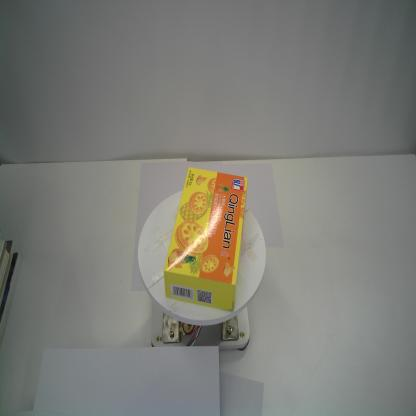Dessert: (162, 166, 249, 312)
